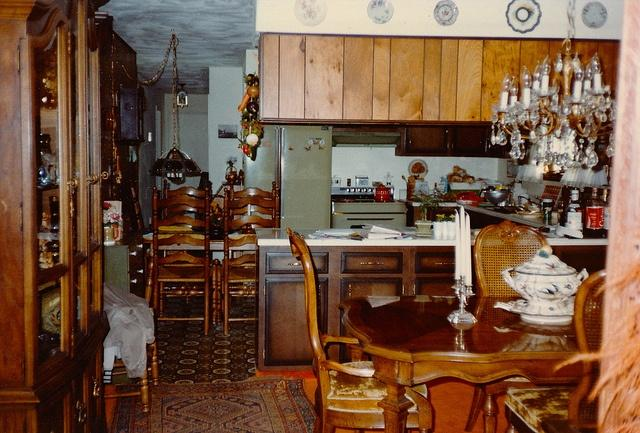Kursi: (284, 227, 386, 432)
Meja: (338, 294, 582, 432)
